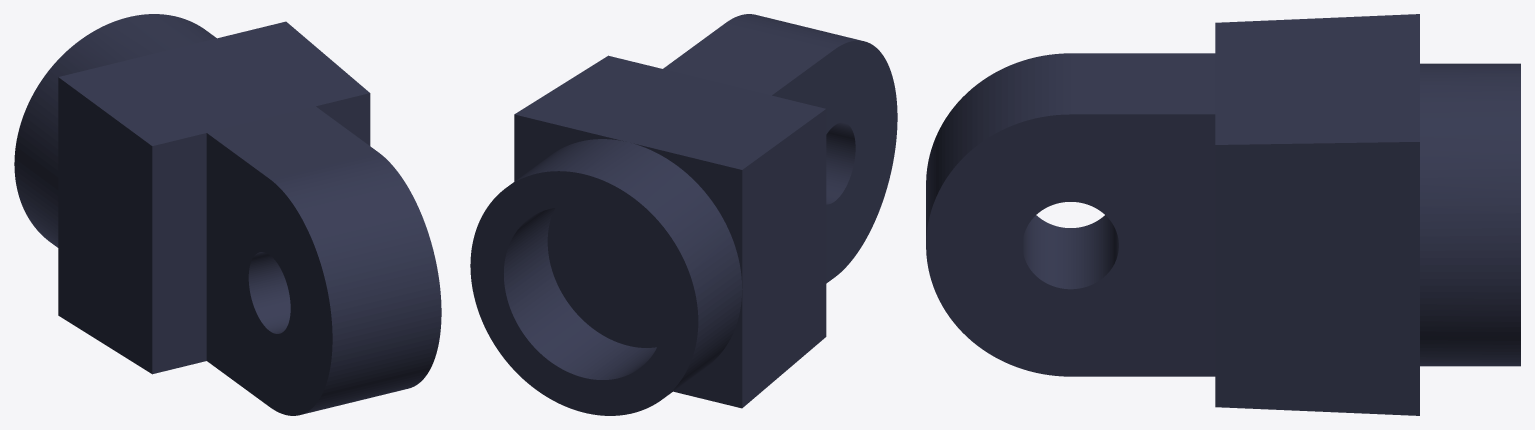
3 renders of one model, left to right at view 1: azimuth 30°, elevation 25°; view 2: azimuth 150°, elevation 25°; view 3: azimuth 270°, elevation 25°, orthographic. The views are drawn at different scales.
Visible parts, largest first — view 1: node; view 2: node; view 3: node.
Boxes of the visible parts, x1,y1,x2,y2 form: node: [14, 14, 441, 415]; node: [470, 14, 897, 415]; node: [926, 14, 1520, 415].
Bounding box in the file's own units: 0.1108 × 0.1108 × 0.2179.
